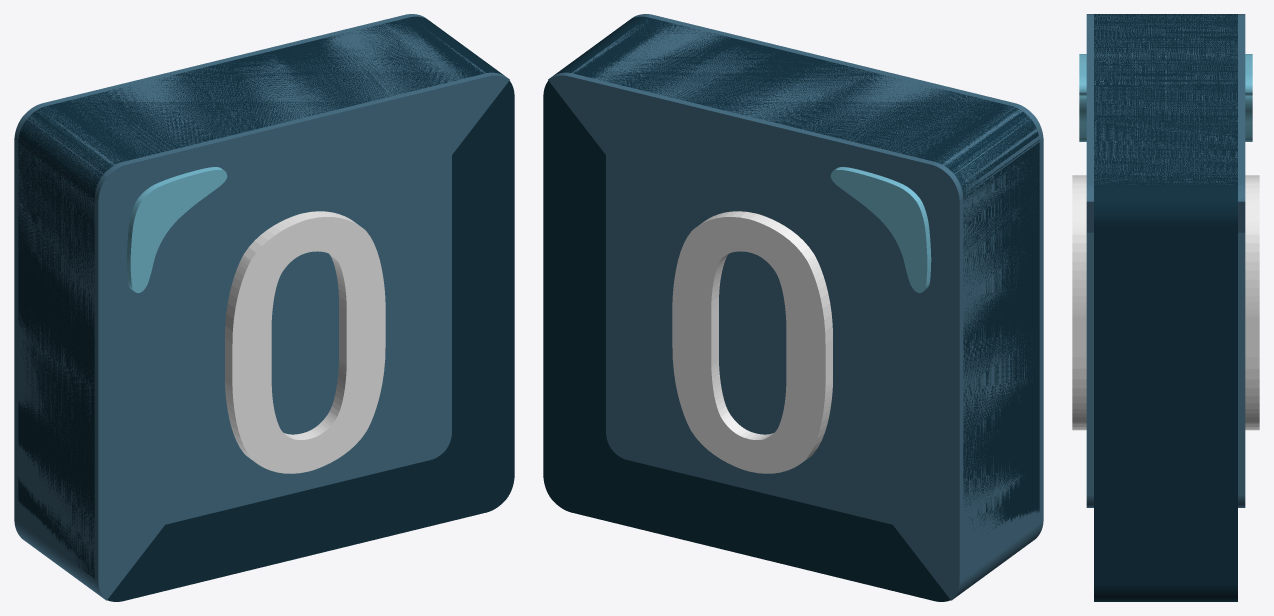
The picture shows the model from 3 angles, left to right: view 1: azimuth 30°, elevation 25°; view 2: azimuth 150°, elevation 25°; view 3: azimuth 270°, elevation 25°; orthographic projection. The views are drawn at different scales.
Parts seen in each view (by area): view 1: U+FE837_layer01_obj00, U+FE837_layer00_obj00, U+FE837_layer03_obj00, U+FE837_layer02_obj00; view 2: U+FE837_layer01_obj00, U+FE837_layer00_obj00, U+FE837_layer03_obj00, U+FE837_layer02_obj00; view 3: U+FE837_layer00_obj00, U+FE837_layer01_obj00, U+FE837_layer03_obj00, U+FE837_layer02_obj00.
Boxes of the visible parts, bbox=[...] form: U+FE837_layer01_obj00: bbox=[14, 14, 509, 600]; U+FE837_layer00_obj00: bbox=[18, 16, 514, 601]; U+FE837_layer03_obj00: bbox=[225, 211, 385, 473]; U+FE837_layer02_obj00: bbox=[126, 167, 227, 293]; U+FE837_layer01_obj00: bbox=[548, 14, 1043, 600]; U+FE837_layer00_obj00: bbox=[543, 16, 1039, 601]; U+FE837_layer03_obj00: bbox=[672, 211, 832, 473]; U+FE837_layer02_obj00: bbox=[830, 167, 931, 293]; U+FE837_layer00_obj00: bbox=[1094, 14, 1237, 601]; U+FE837_layer01_obj00: bbox=[1086, 14, 1245, 507]; U+FE837_layer03_obj00: bbox=[1072, 175, 1259, 430]; U+FE837_layer02_obj00: bbox=[1079, 54, 1252, 141].
Bounding box in the file's own units: 0.3175 × 0.3174 × 0.13.
